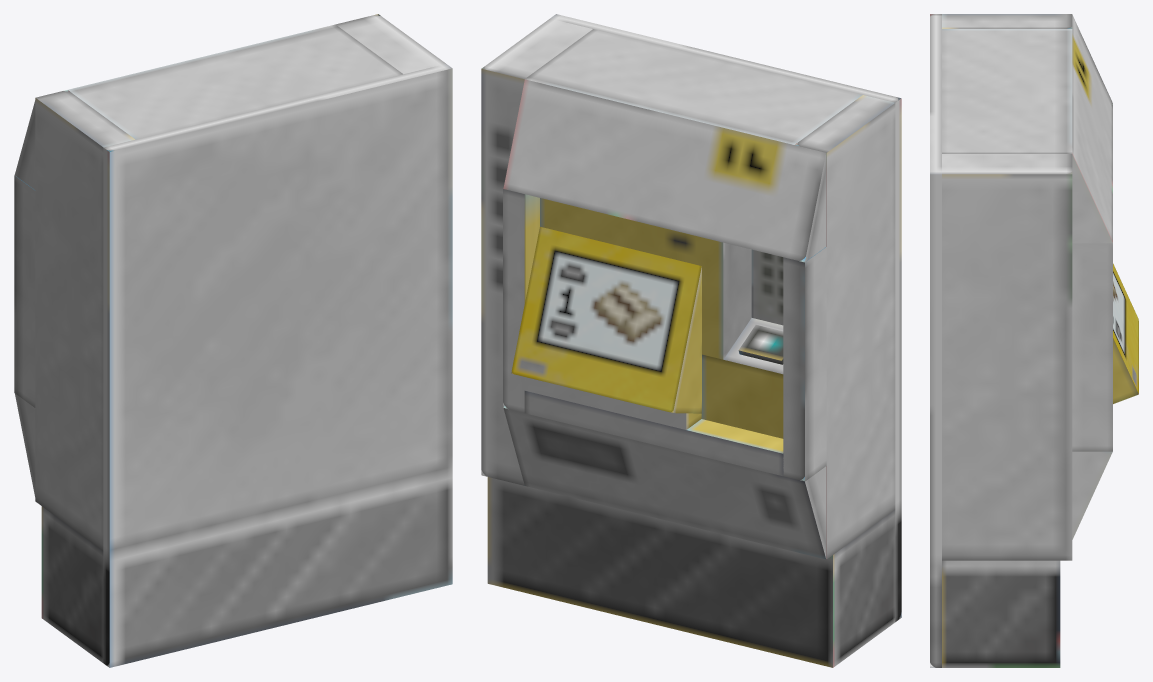
Rendered from bvg_fahrkartenautomat.obj.
3 renders of one model, left to right at view 1: azimuth 30°, elevation 25°; view 2: azimuth 150°, elevation 25°; view 3: azimuth 270°, elevation 25°, orthographic. The views are drawn at different scales.
Visible parts, largest first — view 1: cube; view 2: cube; view 3: cube.
Boxes of the visible parts, x1=… form: cube: x1=14, y1=14, x2=452, y2=667; cube: x1=481, y1=14, x2=901, y2=667; cube: x1=930, y1=14, x2=1138, y2=667.
Bounding box in the file's own units: 2 × 2.88 × 1.1.
